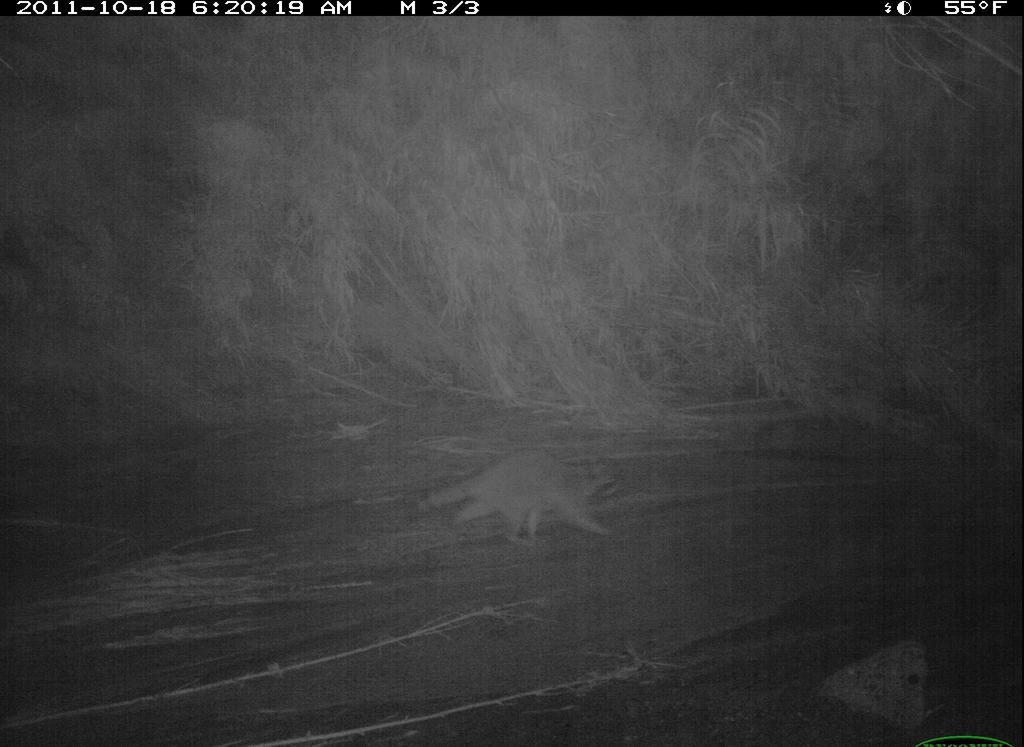raccoon: (413, 443, 633, 548)
